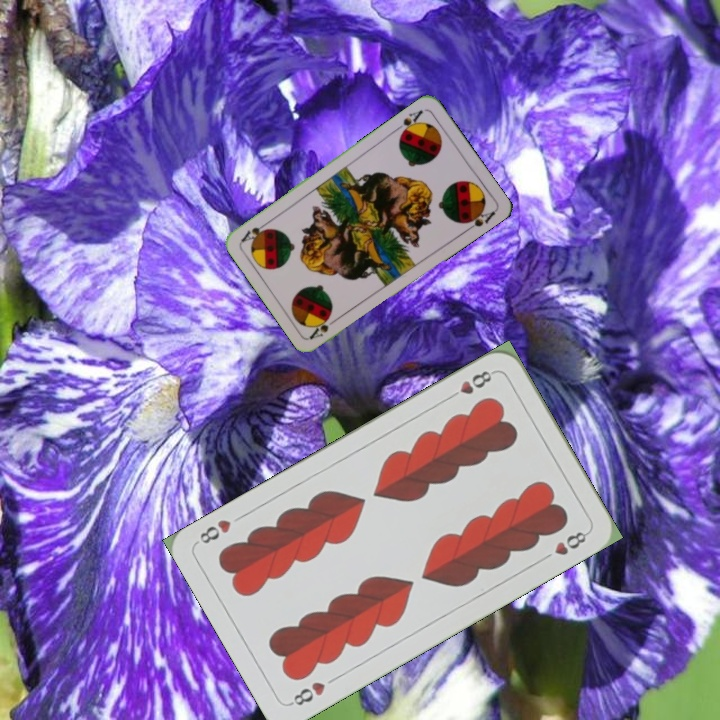H8: (444, 366, 498, 403), (286, 677, 328, 709)
SA: (391, 106, 426, 139), (306, 313, 342, 342)
